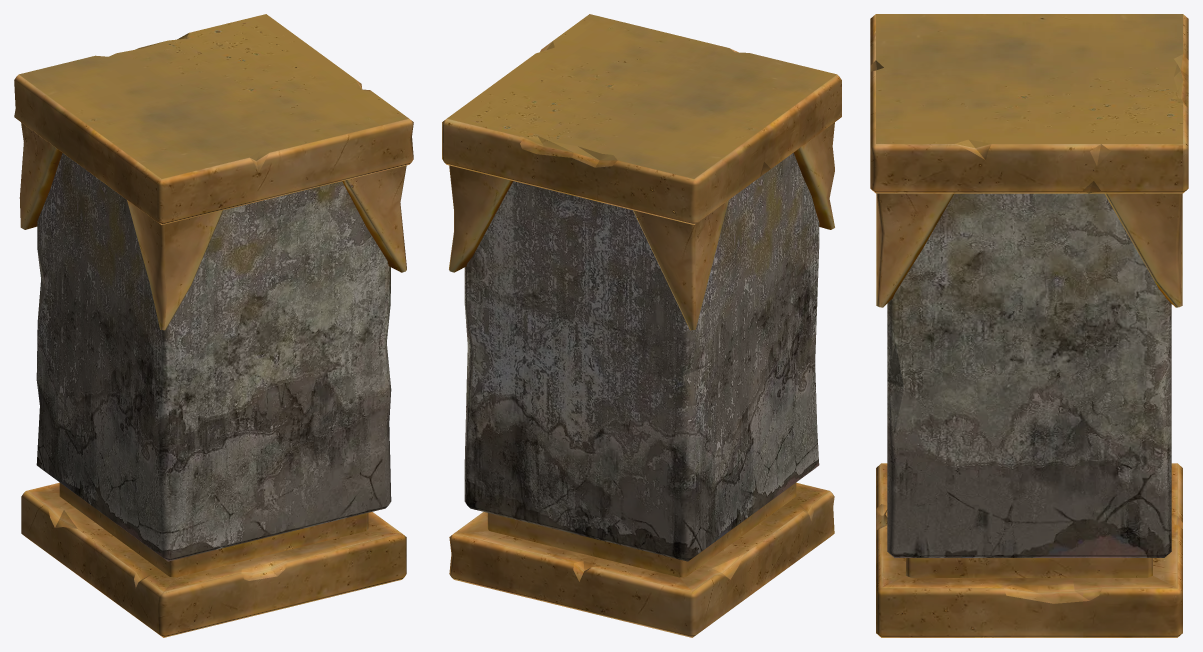
The picture shows the model from 3 angles, left to right: view 1: azimuth 30°, elevation 25°; view 2: azimuth 150°, elevation 25°; view 3: azimuth 270°, elevation 25°; orthographic projection. The views are drawn at different scales.
Parts seen in each view (by area): view 1: SM_Vault_2x1m_Column_01v1_LOD0; view 2: SM_Vault_2x1m_Column_01v1_LOD0; view 3: SM_Vault_2x1m_Column_01v1_LOD0.
Boxes of the visible parts, bbox=[...] form: SM_Vault_2x1m_Column_01v1_LOD0: bbox=[14, 14, 413, 637]; SM_Vault_2x1m_Column_01v1_LOD0: bbox=[442, 14, 841, 637]; SM_Vault_2x1m_Column_01v1_LOD0: bbox=[870, 14, 1188, 637].
Bounding box in the file's own units: 1.16 × 2 × 1.16.
Materials: 3 (3 with a texture image).
